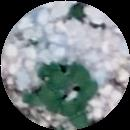Basil: (40, 64, 77, 87), (71, 103, 97, 130), (74, 66, 98, 95), (47, 99, 79, 119), (36, 83, 62, 103)
